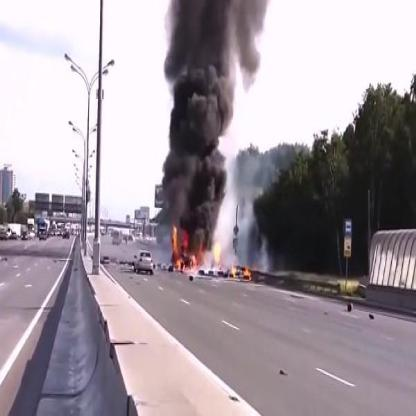fire: (166, 218, 223, 275), (231, 262, 252, 282)
